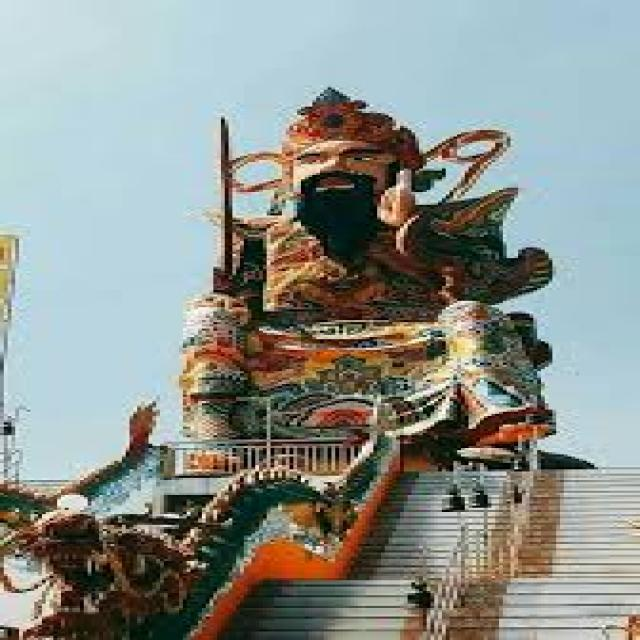Xuan wu: (199, 82, 537, 469)
